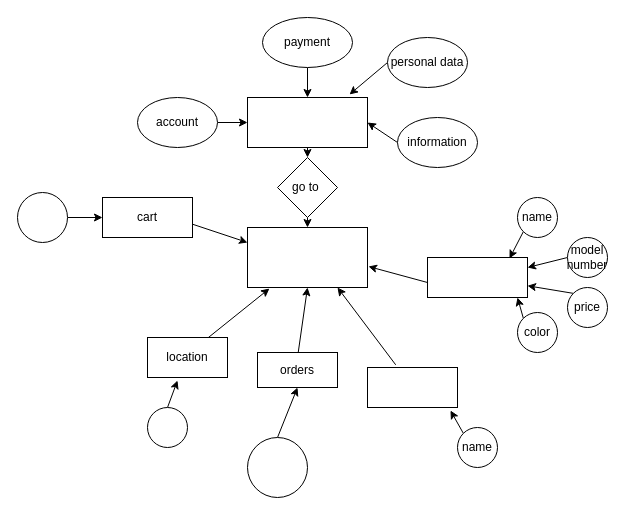
This 625x515 diagram has some shape labels left out. Each missing label, with the centre of its shape:
adress: point 167,427
companies: point 412,387
Famazon: point 307,257
id, fk_carts, fk_users, fk_adress: point 277,467
id_int, fk_user: point 42,217
products: point 477,277
User: point 307,122
